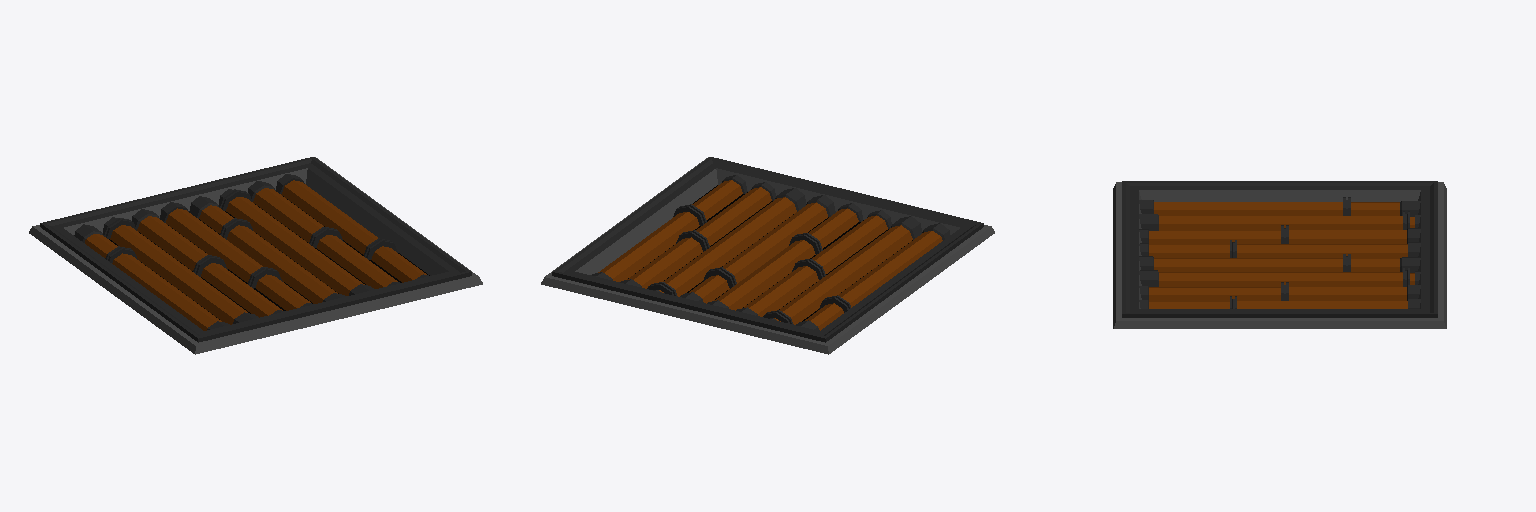
Rendered from RoofTile_Pipes2.obj.
3 views of the same model, side by side, from view 1: azimuth 30°, elevation 25°; view 2: azimuth 150°, elevation 25°; view 3: azimuth 270°, elevation 25° (orthographic).
Parts seen in each view (by area): view 1: RoofTile_Pipes2_Plane.068; view 2: RoofTile_Pipes2_Plane.068; view 3: RoofTile_Pipes2_Plane.068.
Part boxes in pixels (x1,y1,x2,y2): RoofTile_Pipes2_Plane.068: (29, 157, 482, 354); RoofTile_Pipes2_Plane.068: (541, 157, 994, 354); RoofTile_Pipes2_Plane.068: (1113, 181, 1446, 328).
Bounding box in the file's own units: 2 × 0.1148 × 2.